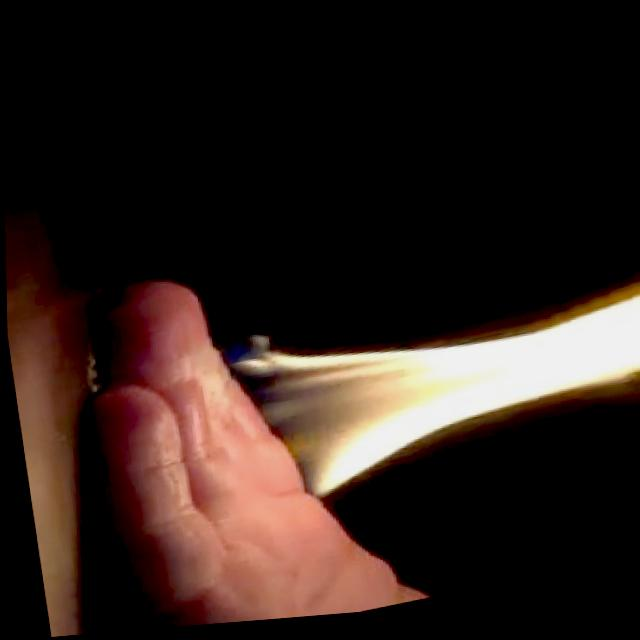helmet: (224, 265, 640, 524)
